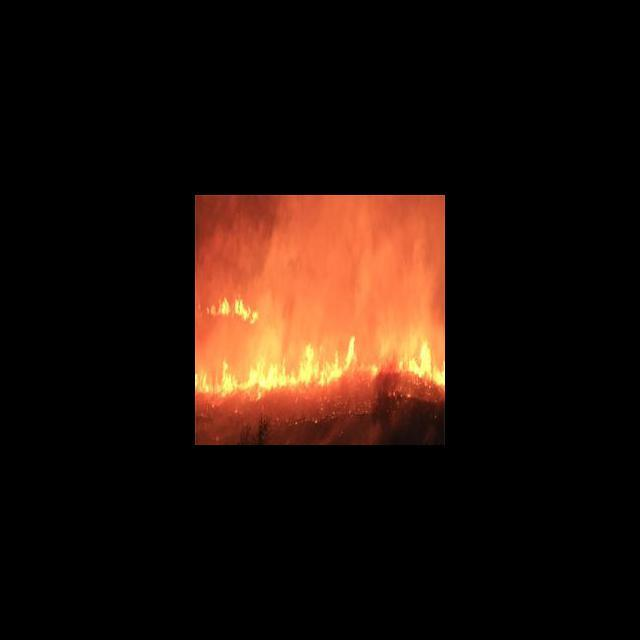Fire: (195, 334, 444, 392), (206, 295, 263, 325)
